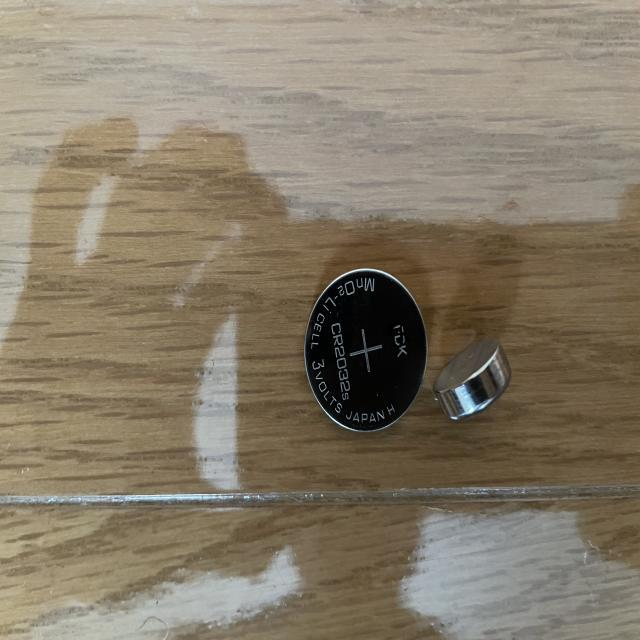COIN: (303, 268, 428, 436), (433, 336, 515, 422)
